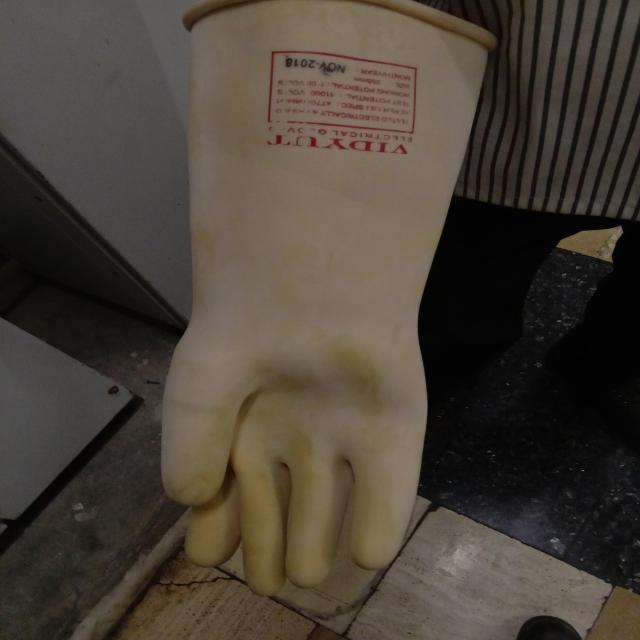glove_hand: (137, 1, 500, 598)
